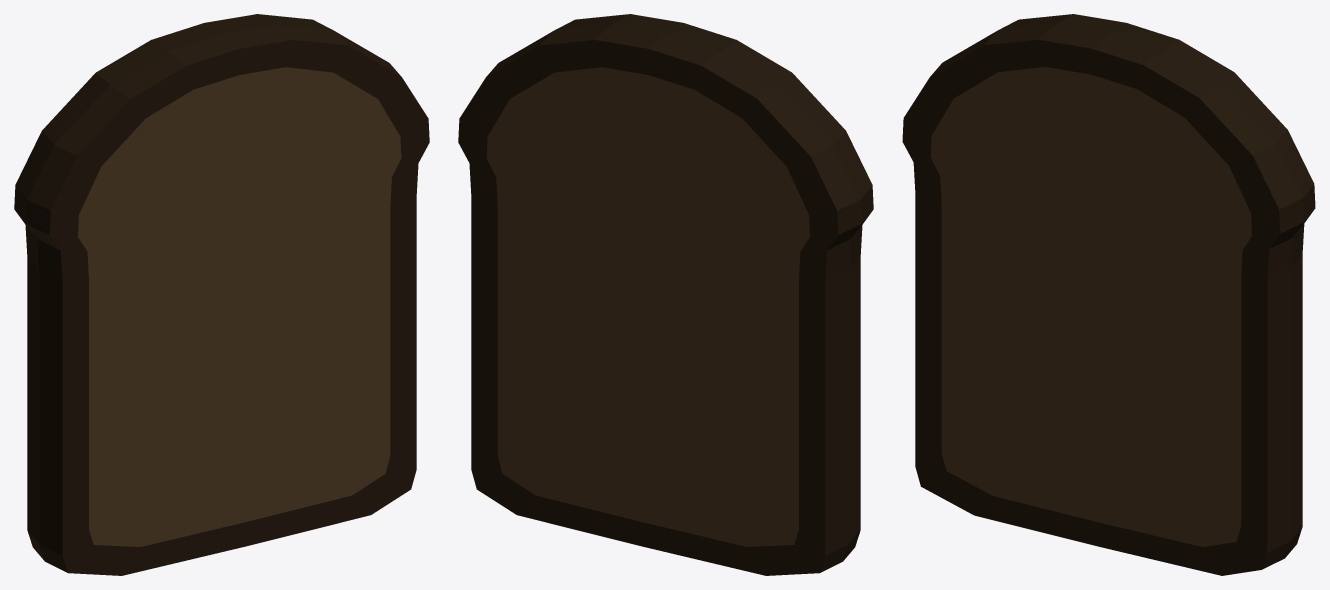
Rendered from Bread_Slice.obj.
The picture shows the model from 3 angles, left to right: view 1: azimuth 30°, elevation 25°; view 2: azimuth 150°, elevation 25°; view 3: azimuth 330°, elevation 25°; orthographic projection.
Visible parts, largest first — view 1: Bread_Slice_Cube.033; view 2: Bread_Slice_Cube.033; view 3: Bread_Slice_Cube.033.
Part boxes in pixels (x1,y1,x2,y2): Bread_Slice_Cube.033: (14,14,429,575); Bread_Slice_Cube.033: (458,14,873,575); Bread_Slice_Cube.033: (902,14,1315,575).
Size of the model in its own units: 0.6933 by 0.847 by 0.1083.
